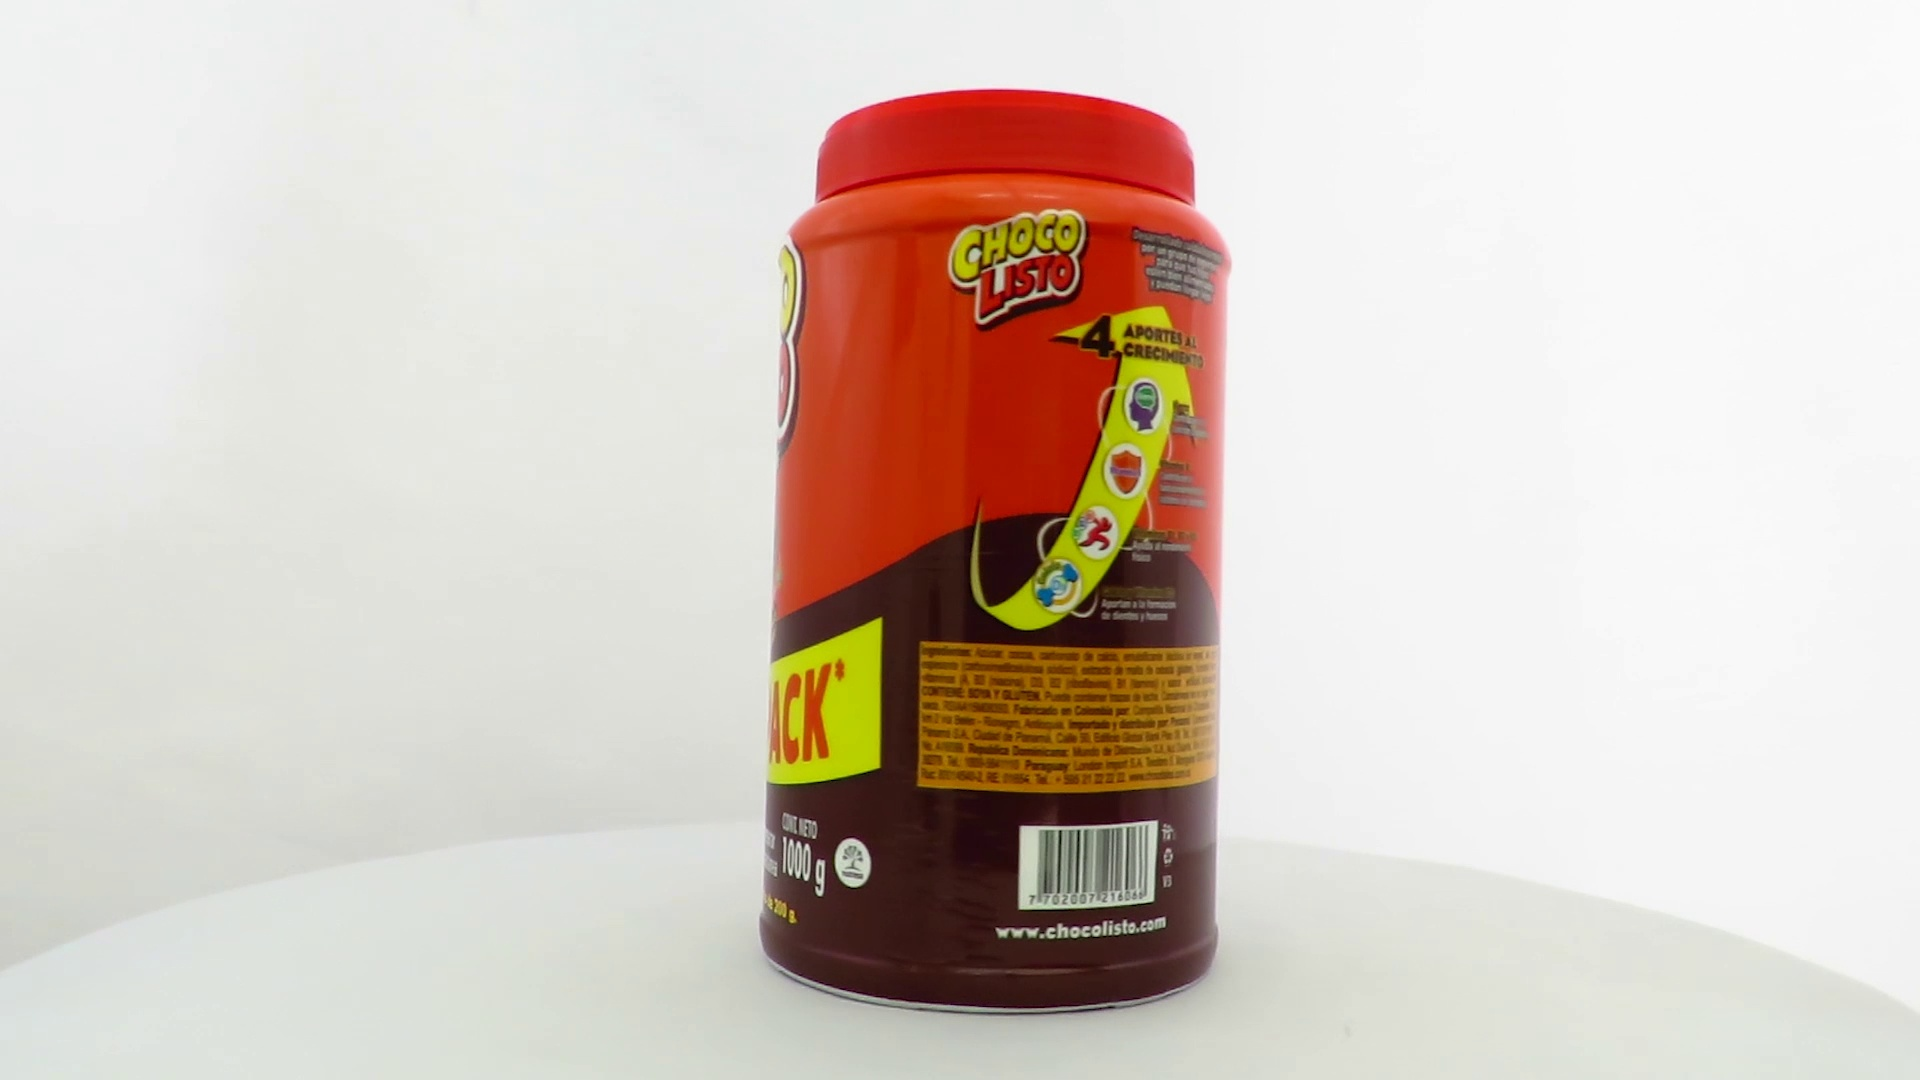COL0170103TRR00100: (754, 84, 1238, 1022)
